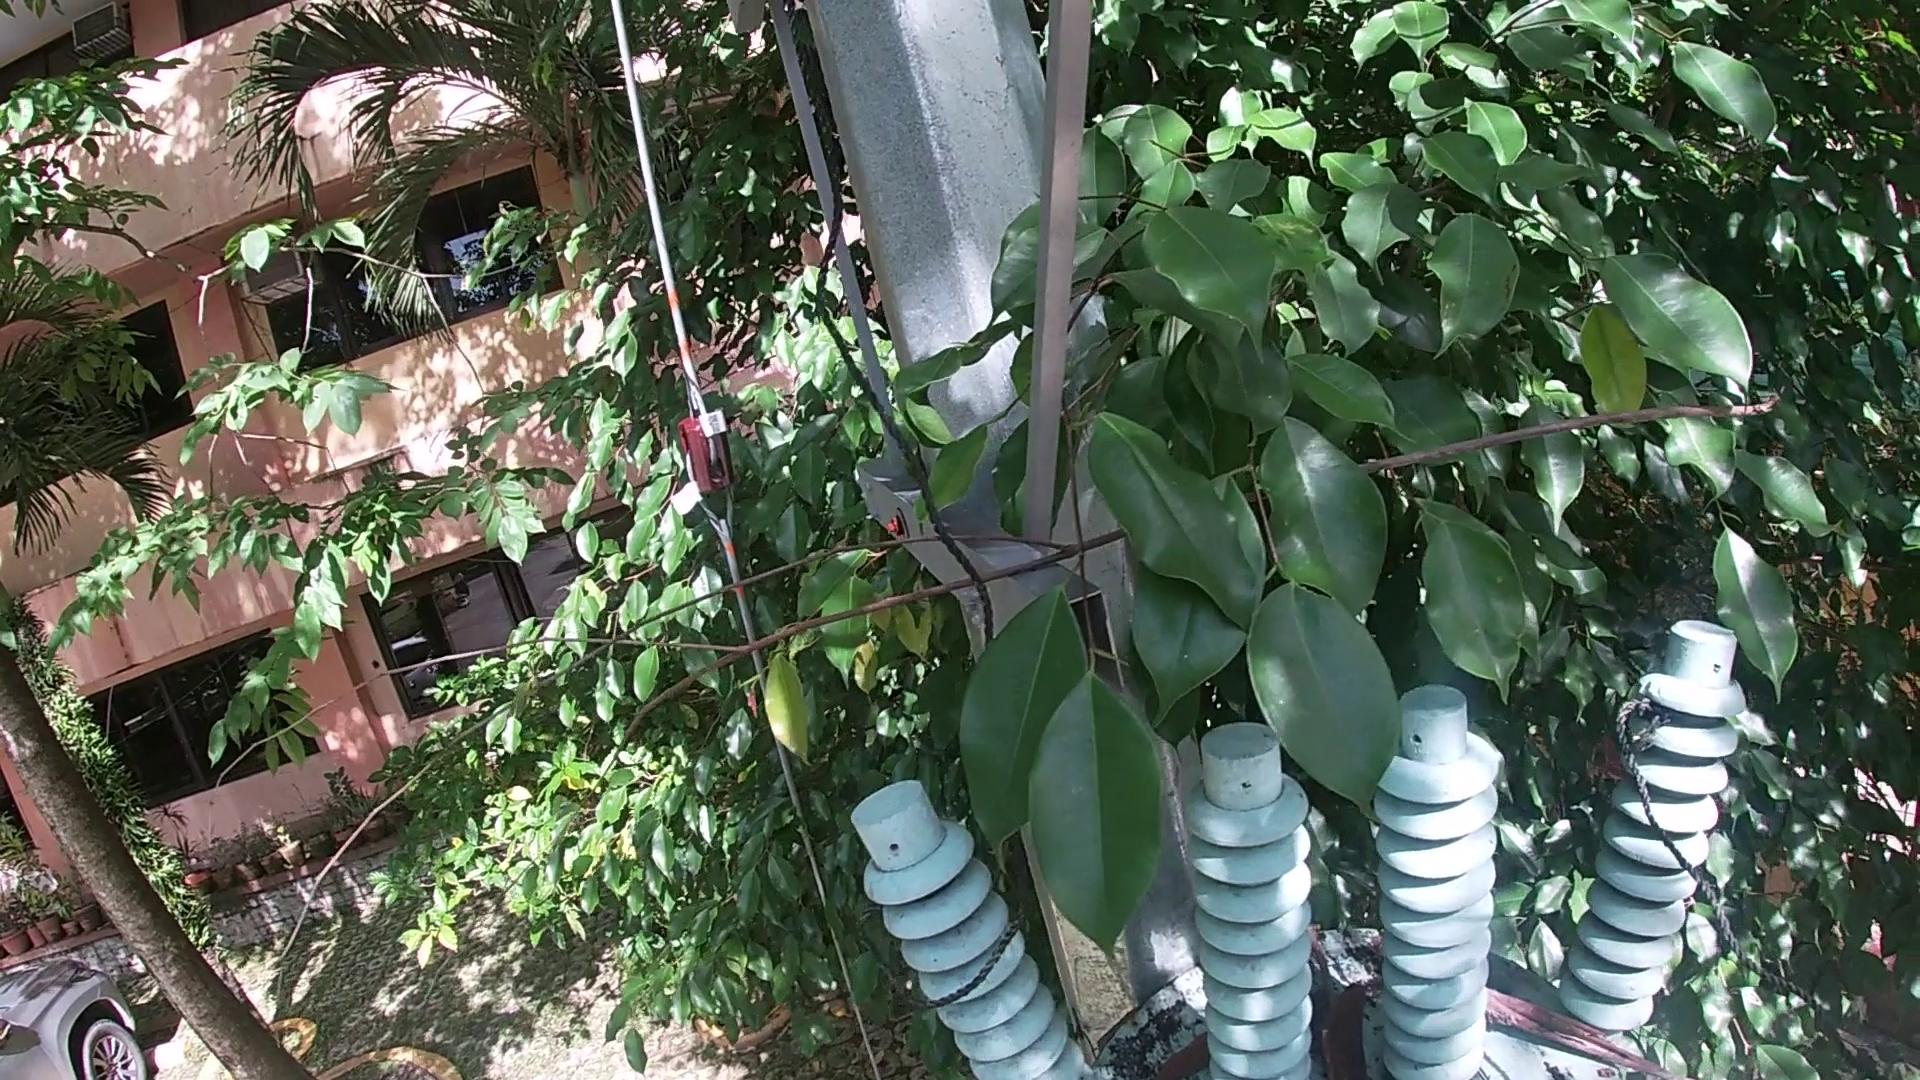leaf: (1142, 1030, 1211, 1077)
mahogany fruit: (1323, 975, 1391, 1077)
tree branch: (45, 390, 1797, 1035), (1476, 972, 1700, 1073), (1313, 913, 1335, 1004)
